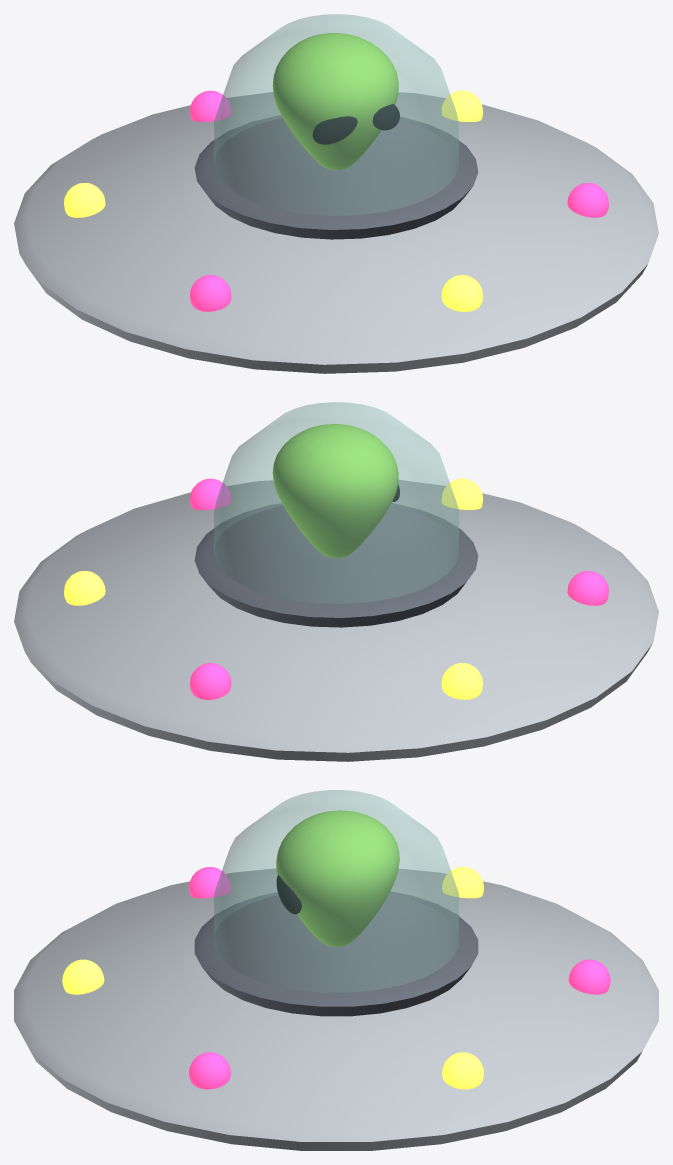
Rendered from alien_crab.glb.
3 views of the same model, one above another, from view 1: azimuth 30°, elevation 25°; view 2: azimuth 150°, elevation 25°; view 3: azimuth 270°, elevation 25° (orthographic).
Visible parts, largest first — view 1: hull, dome, deck, skull, bulb.004, bulb.003, bulb.005, bulb.002, bulb, bulb.001, eye, eye.001; view 2: hull, dome, deck, skull, bulb.005, bulb, bulb.004, bulb.001, bulb.003, bulb.002; view 3: hull, dome, deck, skull, bulb.001, bulb.002, bulb, bulb.003, bulb.004, bulb.005, eye.001.
Part boxes in pixels (<box>): hull: <box>14,92,658,373</box>; dome: <box>214,14,458,215</box>; deck: <box>194,115,478,239</box>; skull: <box>272,33,398,170</box>; bulb.004: <box>190,275,231,311</box>; bulb.003: <box>441,275,483,311</box>; bulb.005: <box>64,183,105,217</box>; bulb.002: <box>567,183,608,217</box>; bulb: <box>189,90,231,121</box>; bulb.001: <box>441,90,483,121</box>; eye: <box>312,116,357,144</box>; eye.001: <box>372,104,399,130</box>; hull: <box>14,480,658,761</box>; dome: <box>214,402,458,603</box>; deck: <box>194,503,478,627</box>; skull: <box>272,424,398,558</box>; bulb.005: <box>441,663,482,699</box>; bulb: <box>189,663,231,699</box>; bulb.004: <box>567,571,608,605</box>; bulb.001: <box>64,571,105,605</box>; bulb.003: <box>441,478,483,509</box>; bulb.002: <box>189,478,231,509</box>; hull: <box>14,868,658,1150</box>; dome: <box>214,790,458,992</box>; deck: <box>194,891,478,1016</box>; skull: <box>276,810,399,946</box>; bulb.001: <box>442,1052,483,1089</box>; bulb.002: <box>189,1052,230,1089</box>; bulb: <box>568,959,610,994</box>; bulb.003: <box>62,959,104,994</box>; bulb.004: <box>189,867,230,898</box>; bulb.005: <box>442,867,483,898</box>; eye.001: <box>276,875,301,914</box>.
Bounding box in the file's own units: 1.69 × 0.8415 × 1.69.
